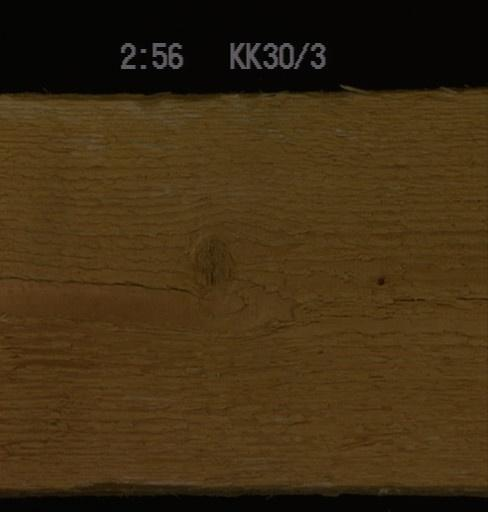small_knot: (370, 269, 389, 286)
split: (0, 276, 217, 303), (383, 292, 486, 304)
wave: (66, 462, 193, 495), (1, 92, 242, 107)
